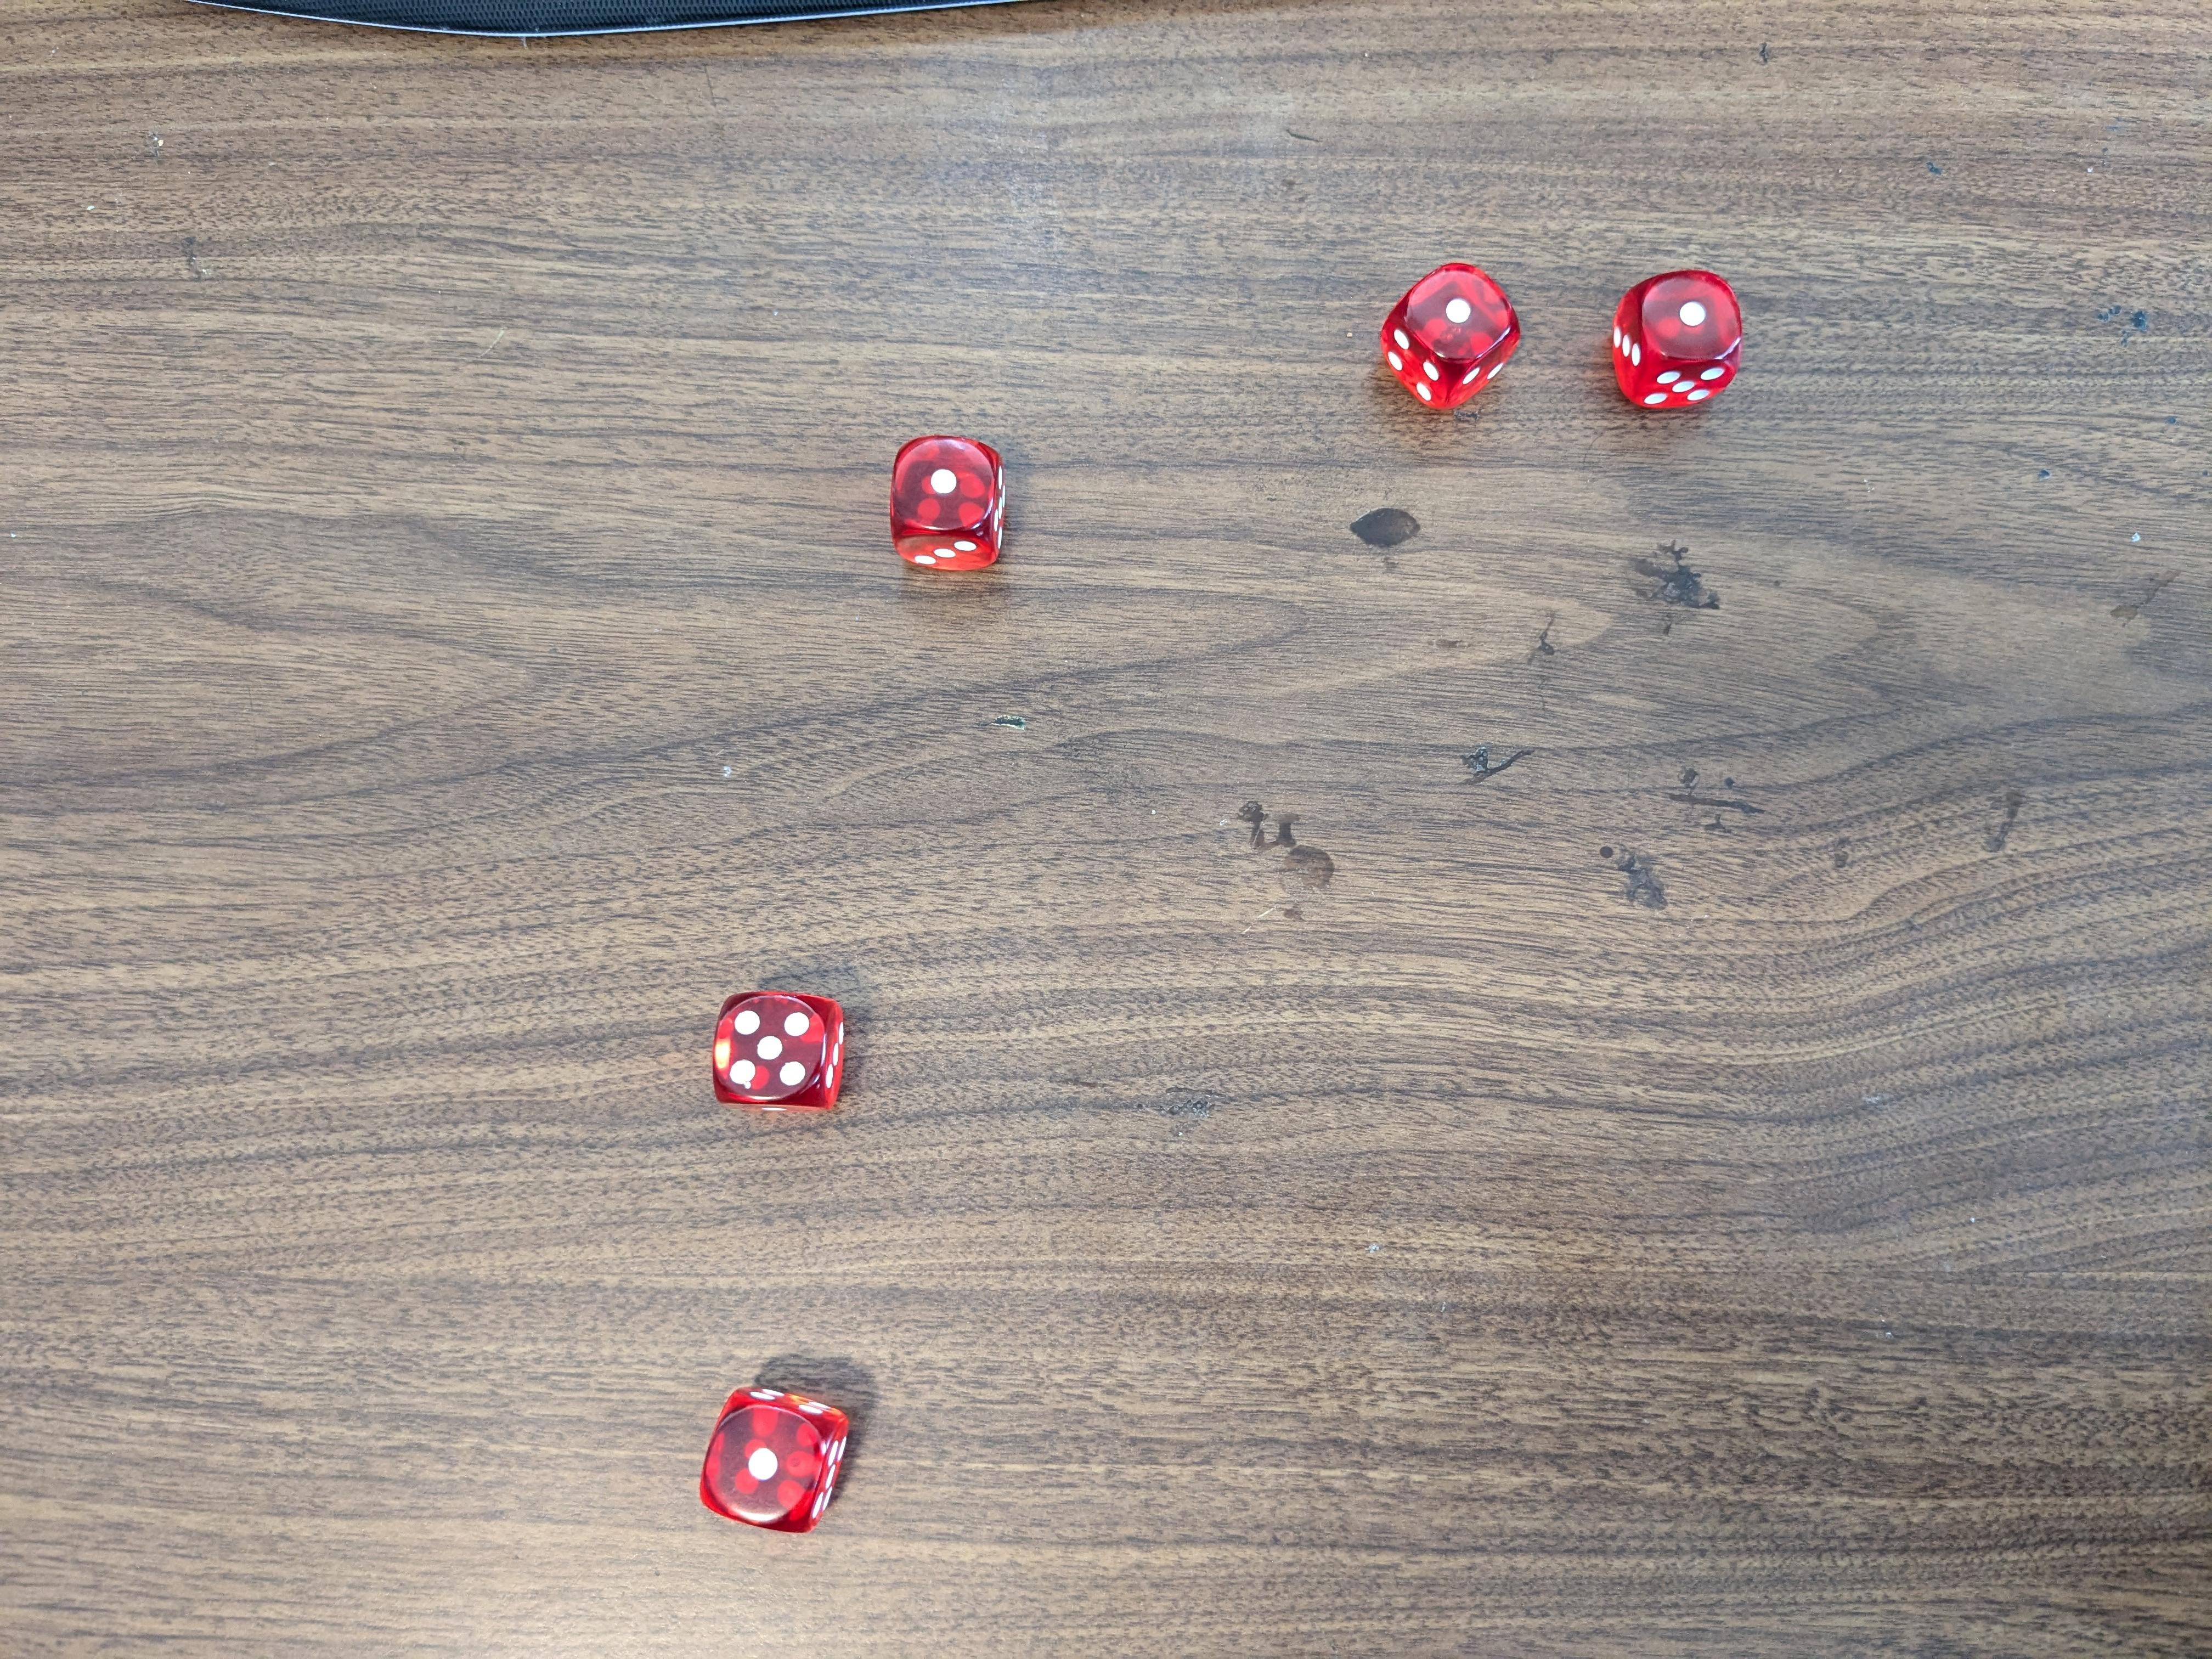five: (714, 990, 852, 1121)
one: (697, 1387, 857, 1535), (1379, 258, 1524, 416), (1611, 270, 1738, 420), (890, 434, 1012, 575)
